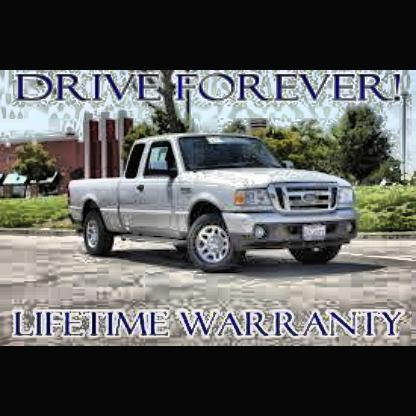Ford Ranger SuperCab 2011: (63, 132, 362, 272)
